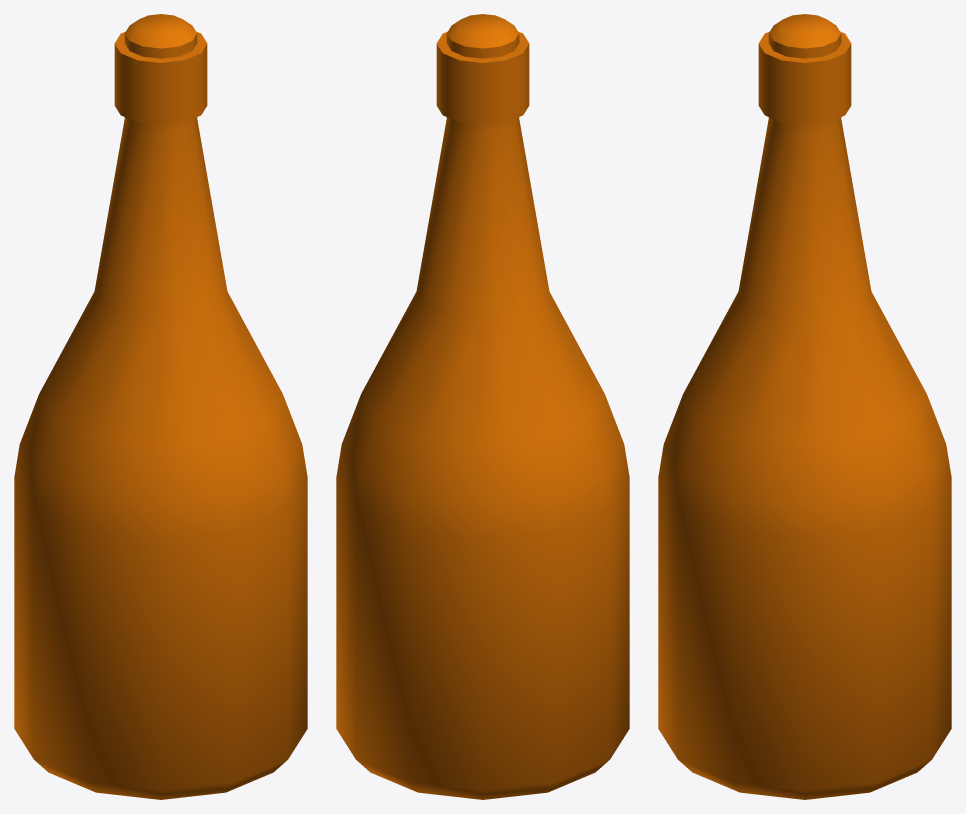
Rendered from SM_Bottle1.fbx.
3 views of the same model, side by side, from view 1: azimuth 30°, elevation 25°; view 2: azimuth 150°, elevation 25°; view 3: azimuth 270°, elevation 25° (orthographic).
Visible parts, largest first — view 1: SM_Bottle1; view 2: SM_Bottle1; view 3: SM_Bottle1.
Part boxes in pixels (x1,y1,x2,y2): SM_Bottle1: [14, 14, 307, 799]; SM_Bottle1: [336, 14, 629, 799]; SM_Bottle1: [658, 14, 951, 799].
Size of the model in its own units: 46.62 by 126 by 46.62.
